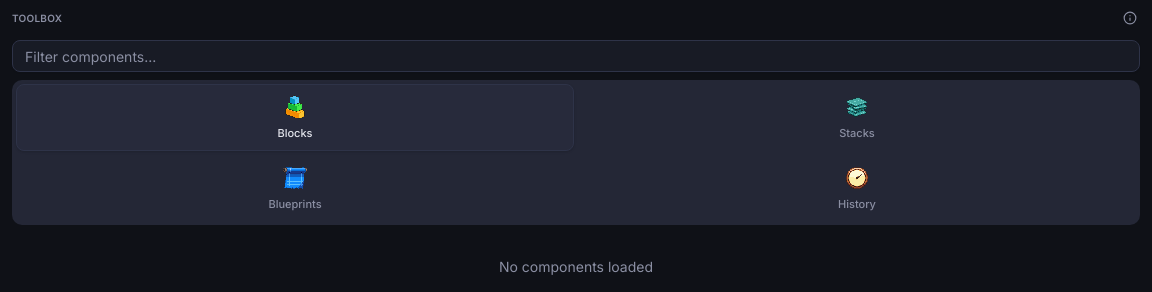
it: ToolboxPanel › shows stacks empty state when Stacks tab is clicked
Click the tab "Stacks" at x=857, y=117, box [578, 84, 1136, 150]
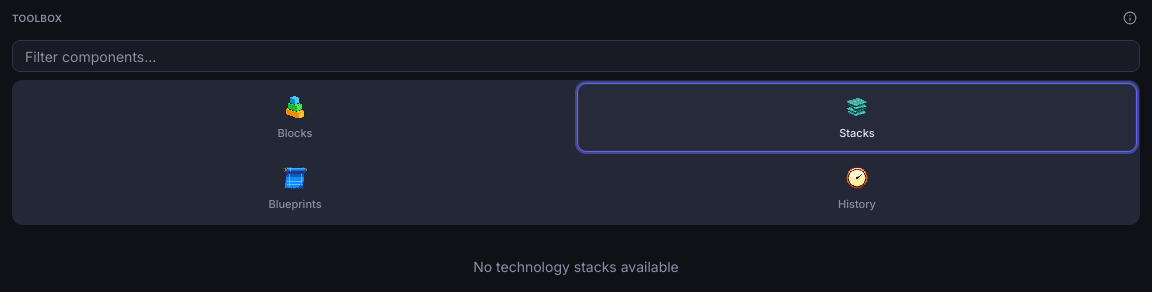
Result: the text "No technology stacks available" is shown at [473, 258, 679, 275]
